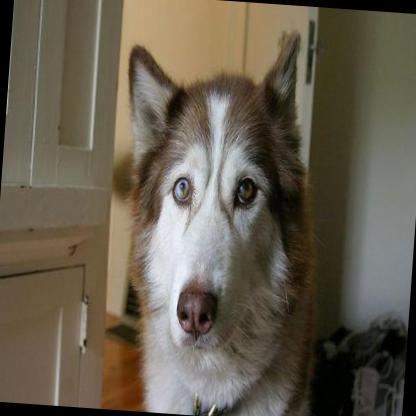Eskimo_dog: (99, 15, 338, 416)
